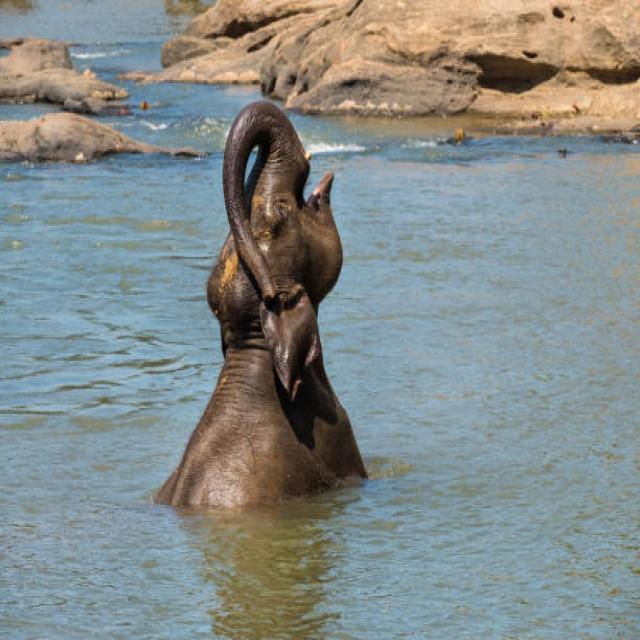Elephant: (156, 91, 388, 525)
